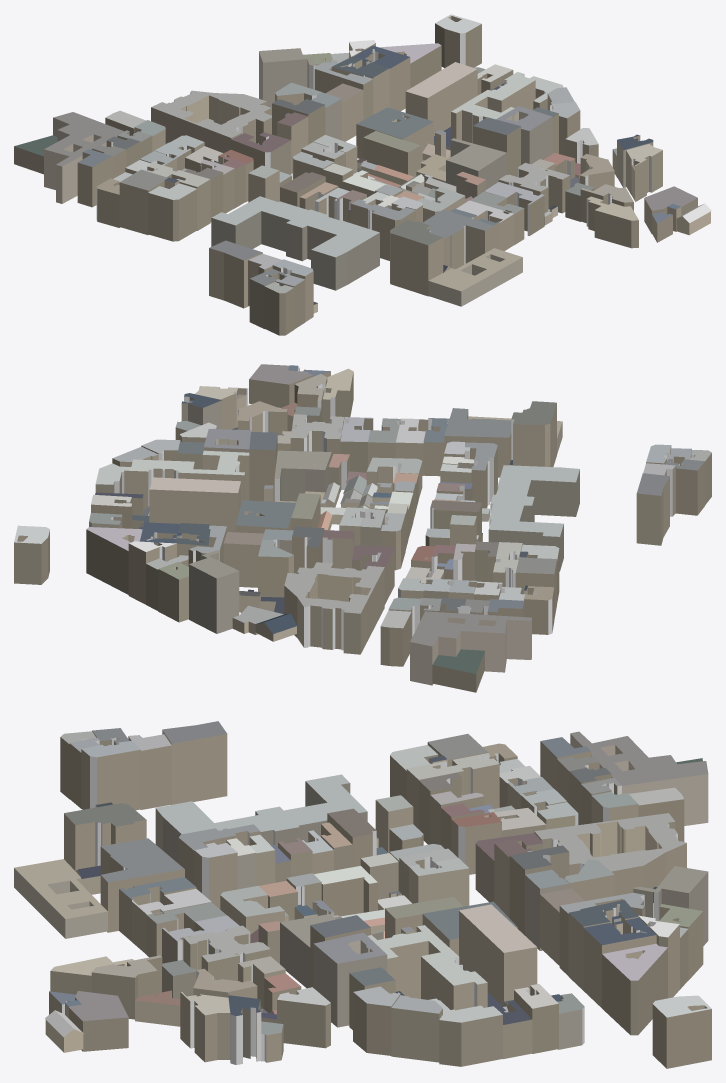
3 views of the same model, one above another, from view 1: azimuth 30°, elevation 25°; view 2: azimuth 150°, elevation 25°; view 3: azimuth 270°, elevation 25° (orthographic). The views are drawn at different scales.
Parts seen in each view (by area): view 1: tuile; view 2: tuile; view 3: tuile.
Boxes of the visible parts, box(x1,y1,x2,y2) form: tuile: box(14, 14, 711, 335); tuile: box(14, 364, 711, 692); tuile: box(14, 721, 711, 1068).
Bounding box in the file's own units: 272 × 33.96 × 272.
